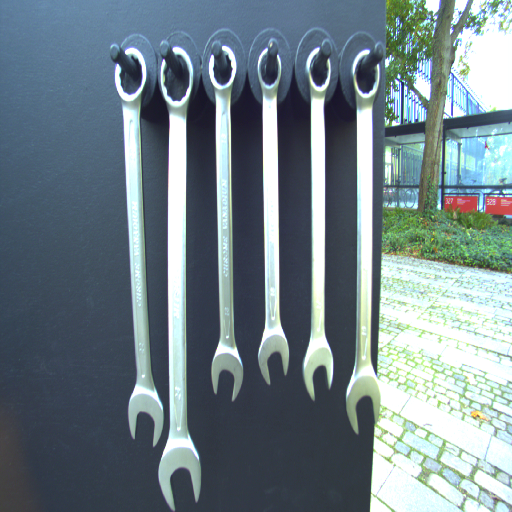bottom: (155, 439, 202, 512), (127, 380, 165, 450), (344, 369, 382, 436), (211, 340, 244, 403), (300, 340, 333, 402), (257, 326, 290, 387)
top: (112, 45, 150, 109), (161, 48, 194, 111), (304, 43, 336, 98), (350, 47, 382, 102), (255, 42, 286, 97), (206, 38, 238, 91)
